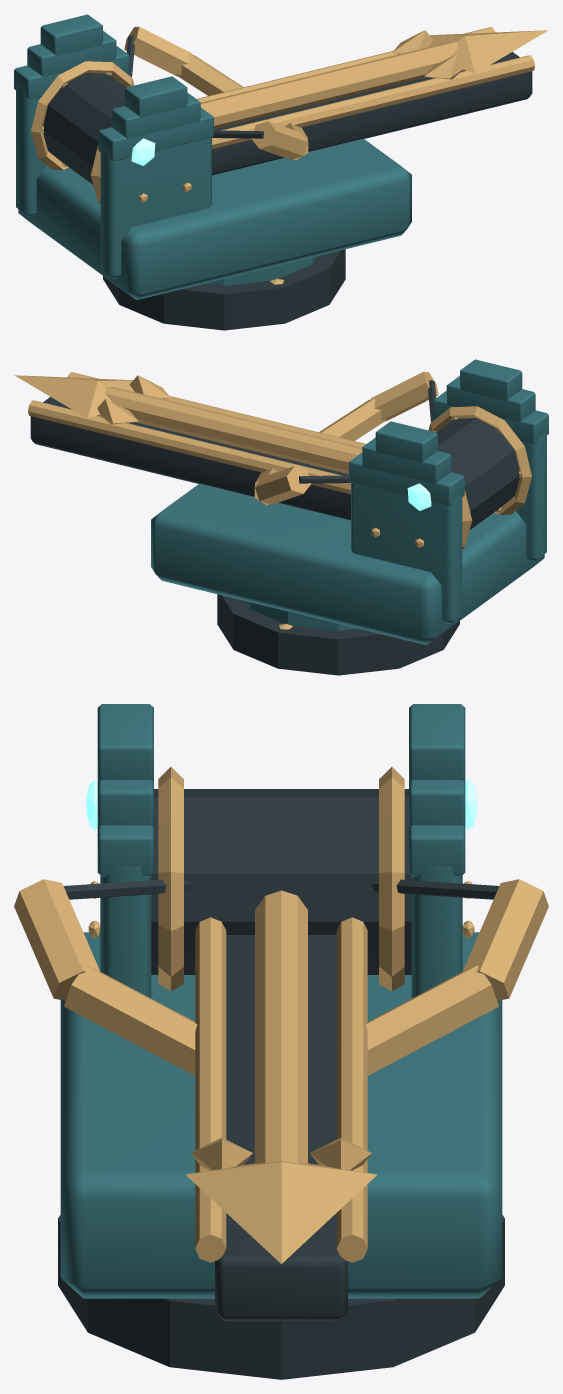
Rendered from evolution-harpoon-whale.glb.
3 views of the same model, one above another, from view 1: azimuth 30°, elevation 25°; view 2: azimuth 150°, elevation 25°; view 3: azimuth 270°, elevation 25° (orthographic). The views are drawn at different scales.
Parts seen in each view (by area): view 1: evolution-harpoon-whale / Paint | armory deep Hanseatic enam, evolution-harpoon-whale / Structure | armory dark pressure s, evolution-harpoon-whale / Brass | armory machined champagne , Runtime flywheel Z | evolution-harpoon-whale, evolution-harpoon-whale / Lamp | armory pale electric mint; view 2: evolution-harpoon-whale / Paint | armory deep Hanseatic enam, evolution-harpoon-whale / Structure | armory dark pressure s, evolution-harpoon-whale / Brass | armory machined champagne , Runtime flywheel Z | evolution-harpoon-whale, evolution-harpoon-whale / Lamp | armory pale electric mint; view 3: evolution-harpoon-whale / Paint | armory deep Hanseatic enam, evolution-harpoon-whale / Structure | armory dark pressure s, evolution-harpoon-whale / Brass | armory machined champagne , Runtime flywheel Z | evolution-harpoon-whale, evolution-harpoon-whale / Lamp | armory pale electric mint.
Part boxes in pixels (left/top/right/bottom): evolution-harpoon-whale / Paint | armory deep Hanseatic enam: left=14, top=14, right=411, bottom=300; evolution-harpoon-whale / Structure | armory dark pressure s: left=43, top=35, right=532, bottom=330; evolution-harpoon-whale / Brass | armory machined champagne : left=124, top=26, right=548, bottom=284; Runtime flywheel Z | evolution-harpoon-whale: left=31, top=61, right=134, bottom=203; evolution-harpoon-whale / Lamp | armory pale electric mint: left=131, top=138, right=155, bottom=165; evolution-harpoon-whale / Paint | armory deep Hanseatic enam: left=151, top=359, right=548, bottom=645; evolution-harpoon-whale / Structure | armory dark pressure s: left=30, top=380, right=519, bottom=675; evolution-harpoon-whale / Brass | armory machined champagne : left=14, top=371, right=438, bottom=629; Runtime flywheel Z | evolution-harpoon-whale: left=428, top=406, right=531, bottom=548; evolution-harpoon-whale / Lamp | armory pale electric mint: left=407, top=483, right=431, bottom=510; evolution-harpoon-whale / Paint | armory deep Hanseatic enam: left=60, top=704, right=502, bottom=1298; evolution-harpoon-whale / Structure | armory dark pressure s: left=58, top=789, right=504, bottom=1379; evolution-harpoon-whale / Brass | armory machined champagne : left=14, top=879, right=548, bottom=1263; Runtime flywheel Z | evolution-harpoon-whale: left=158, top=767, right=404, bottom=991; evolution-harpoon-whale / Lamp | armory pale electric mint: left=86, top=780, right=476, bottom=830.
Bounding box in the file's own units: 3.67 × 1.8 × 1.89.
